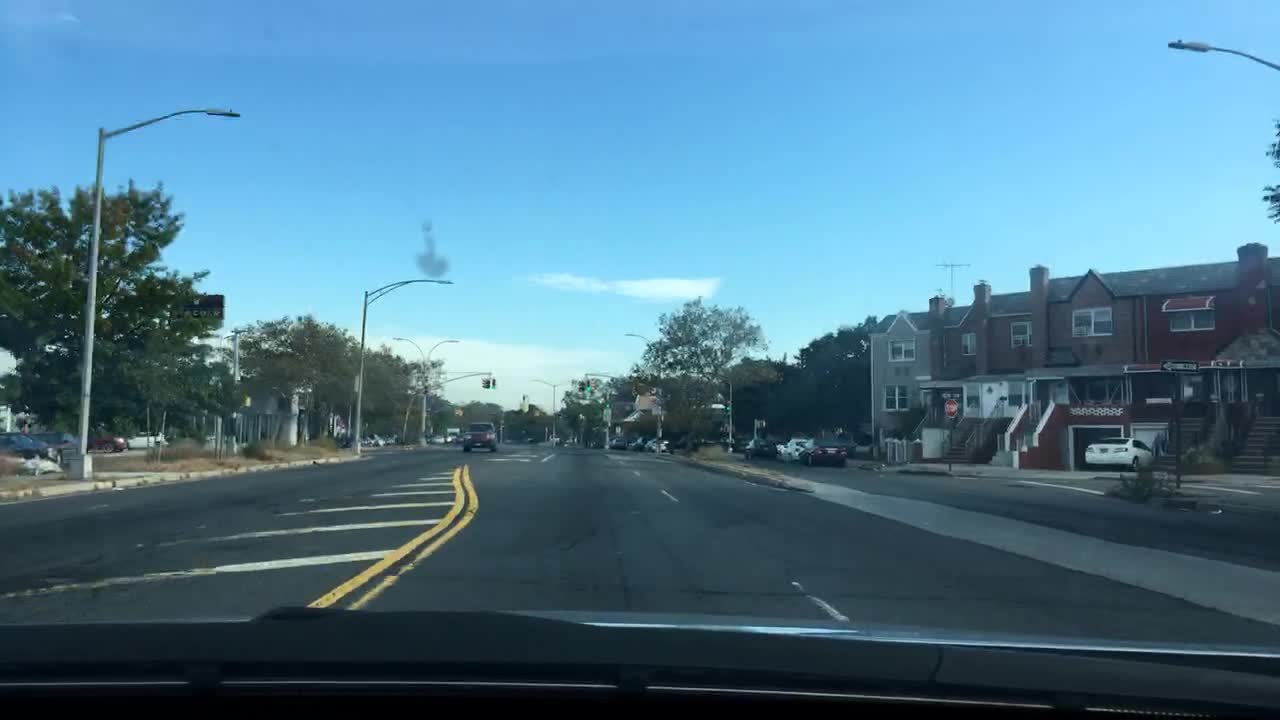car: (1082, 430, 1153, 470), (0, 425, 46, 458), (800, 438, 850, 468), (32, 429, 80, 457), (463, 423, 498, 452), (84, 429, 125, 453), (781, 436, 814, 461), (125, 429, 167, 448), (742, 438, 778, 459), (628, 436, 653, 451), (652, 439, 673, 453), (441, 427, 460, 442), (607, 435, 627, 447)
traffic light: (582, 379, 591, 392), (721, 400, 730, 413), (489, 375, 496, 389), (481, 376, 489, 387)
traffic sign: (1159, 356, 1197, 373), (942, 399, 957, 418)
